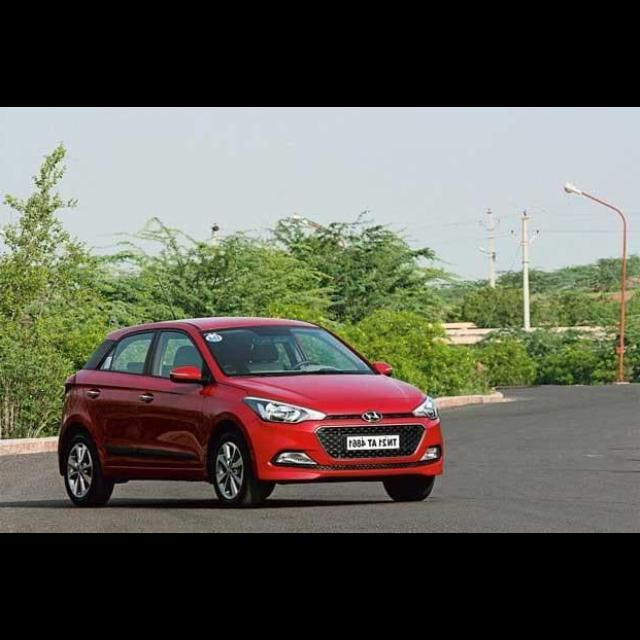vehicles: (59, 314, 449, 510)
